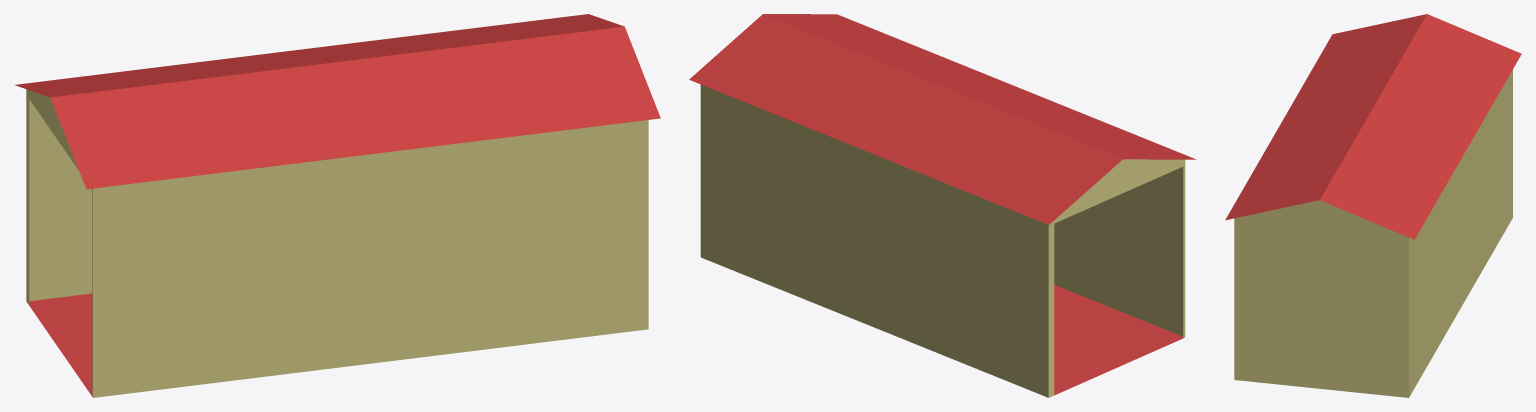
The picture shows the model from 3 angles, left to right: view 1: azimuth 30°, elevation 25°; view 2: azimuth 150°, elevation 25°; view 3: azimuth 270°, elevation 25°; orthographic projection. The views are drawn at different scales.
Visible parts, largest first — view 1: group_5, group_3, group_6, group_4; view 2: group_5, group_3, group_6, group_4; view 3: group_5, group_3, group_4.
Part boxes in pixels (box(x1,y1,x2,y2)): group_5: box(26, 89, 648, 397); group_3: box(27, 16, 660, 189); group_6: box(29, 293, 92, 396); group_4: box(15, 14, 634, 97); group_5: box(700, 16, 1185, 397); group_3: box(701, 14, 1196, 217); group_6: box(1054, 285, 1183, 395); group_4: box(689, 14, 1122, 224); group_5: box(1234, 70, 1512, 397); group_3: box(1225, 14, 1512, 233); group_4: box(1271, 14, 1521, 239).
Size of the model in its own units: 16.14 by 9.85 by 7.03.
